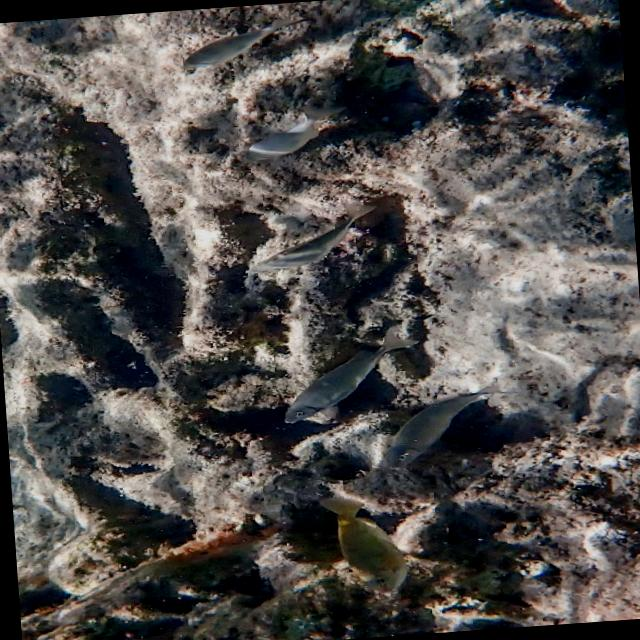Sokar Baligi: (258, 324, 414, 435), (294, 482, 429, 608), (226, 200, 394, 288)
